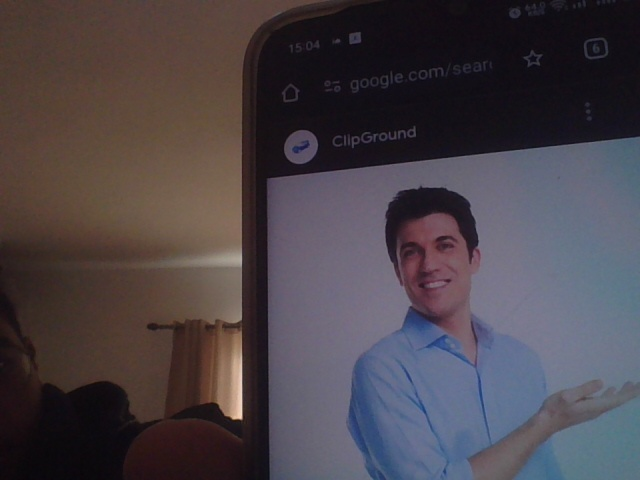fake: (384, 175, 488, 322)
